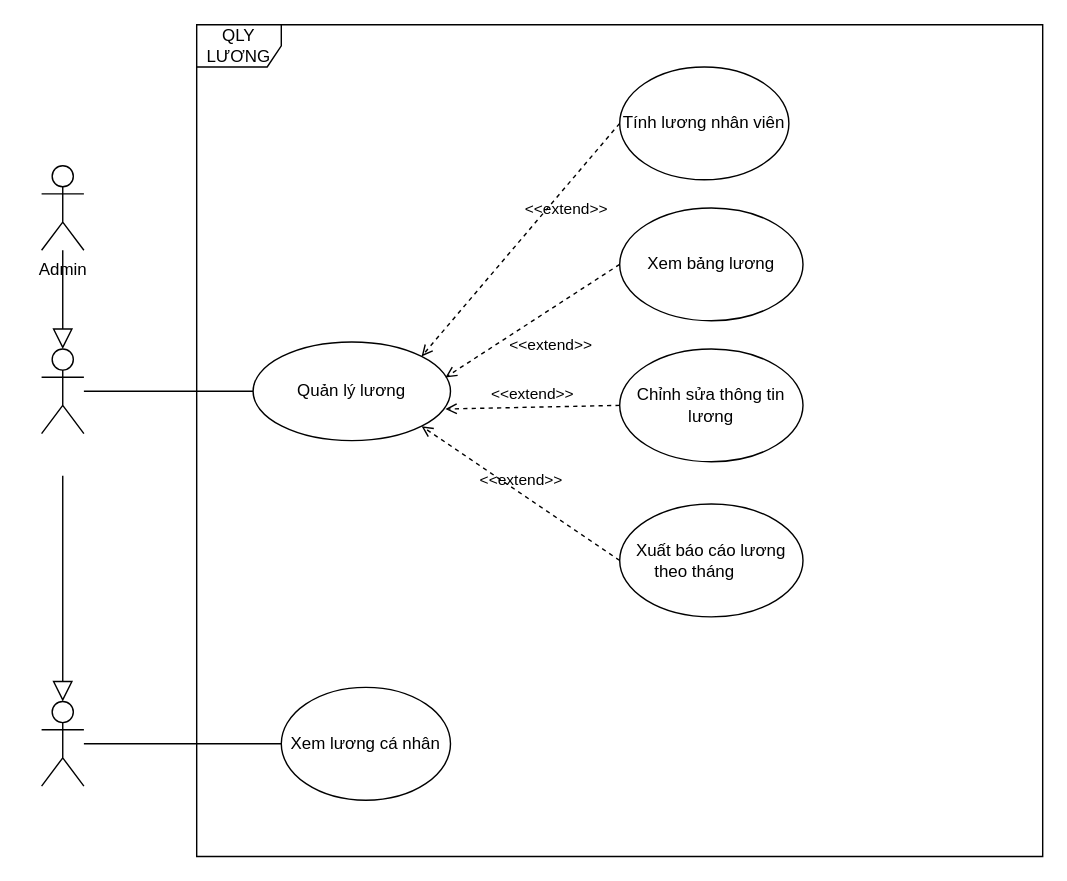
Image size: 1067x881. Some labels were removed from this diagram. Each missing label, with the centre of its shape:
HR: [62,391]
Nhân viên: [62,743]
